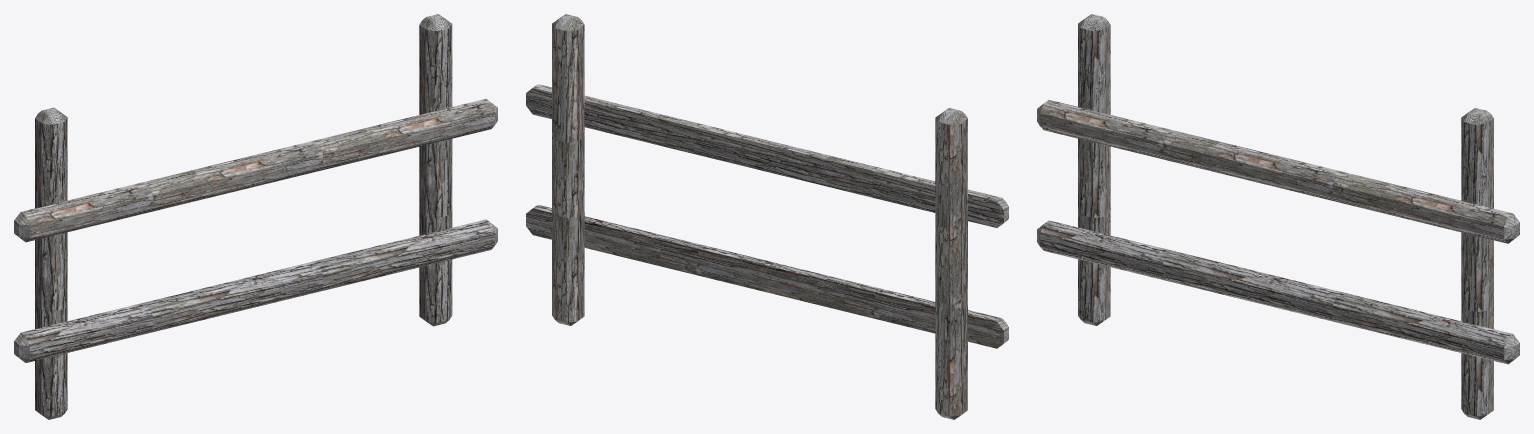
The model's file is Fence.fbx.
3 renders of one model, left to right at view 1: azimuth 30°, elevation 25°; view 2: azimuth 150°, elevation 25°; view 3: azimuth 330°, elevation 25°, orthographic.
Parts seen in each view (by area): view 1: FENCE; view 2: FENCE; view 3: FENCE.
Part boxes in pixels (bbox=[...]): FENCE: bbox=[14, 14, 497, 419]; FENCE: bbox=[526, 14, 1008, 419]; FENCE: bbox=[1037, 14, 1519, 419].
Size of the model in its own units: 0.1766 by 1.23 by 2.03.
Materials: 1 (1 with a texture image).
